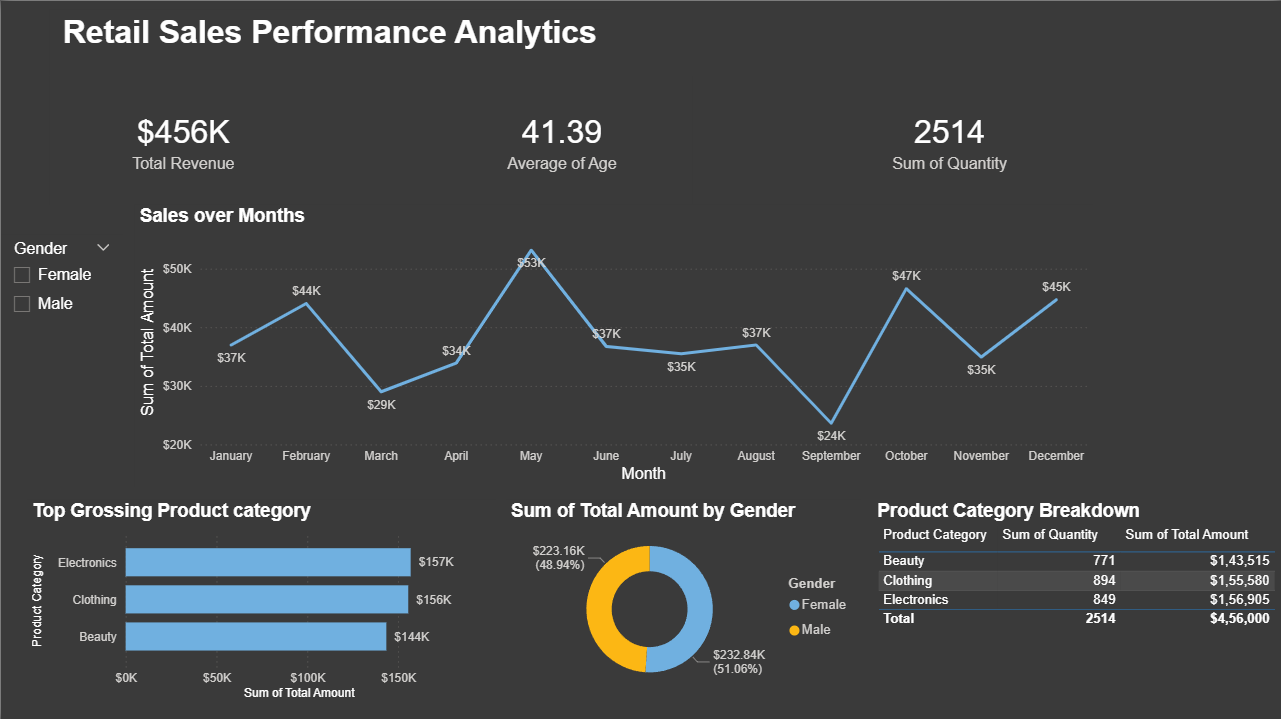

What the dashboard file says about the page in this screenshot:
{"tool":"powerbi","page":{"name":"Page 1","canvas":[1280,720],"ordinal":0},"visuals":[{"type":"card","fields":{"Values":["Sum(cleaned_retail_data_for_powerbi.Total Amount)"]},"box":[48.8,75,267.5,128.8],"z":0},{"type":"card","fields":{"Values":["Avg(cleaned_retail_data_for_powerbi.Age)"]},"box":[431.2,75,260,128.8],"z":1000},{"type":"clusteredBarChart","title":"Top Grossing Product category","fields":{"Category":["cleaned_retail_data_for_powerbi.Product Category"],"Y":["Sum(cleaned_retail_data_for_powerbi.Total Amount)"]},"box":[26.2,498.8,468.8,205],"z":2000},{"type":"lineChart","title":"Sales over Months","fields":{"Y":["Sum(cleaned_retail_data_for_powerbi.Total Amount)"],"Category":["cleaned_retail_data_for_powerbi.Date.Variation.Date Hierarchy.Month"]},"box":[133.8,203.8,958.8,282.5],"z":3000},{"type":"slicer","fields":{"Values":["cleaned_retail_data_for_powerbi.Gender"]},"box":[0,233.8,121.2,175],"z":4000},{"type":"card","fields":{"Values":["Sum(cleaned_retail_data_for_powerbi.Quantity)"]},"box":[805,75,287.5,128.8],"z":5000},{"type":"tableEx","title":"Product Category Breakdown","fields":{"Values":["cleaned_retail_data_for_powerbi.Product Category","Sum(cleaned_retail_data_for_powerbi.Quantity)","Sum(cleaned_retail_data_for_powerbi.Total Amount)"]},"box":[871.2,498.8,408.8,198.8],"z":6000},{"type":"donutChart","fields":{"Category":["cleaned_retail_data_for_powerbi.Gender"],"Y":["Sum(cleaned_retail_data_for_powerbi.Total Amount)"]},"box":[505.4,498.5,354.6,198.5],"z":7000},{"type":"textbox","box":[48.3,8.3,560,66.7],"z":8000}]}

Visuals, with their boxes in screenshot pixels (x1, y1, x2, y2), scaled from the page's 1280x720 canvas onto the 1281x719 screenshot:
card - Sum(cleaned_retail_data_for_powerbi.Total Amount): box(49, 75, 317, 204)
card - Avg(cleaned_retail_data_for_powerbi.Age): box(432, 75, 692, 204)
"Top Grossing Product category" clusteredBarChart: box(26, 498, 495, 703)
"Sales over Months" lineChart: box(134, 204, 1093, 486)
slicer - cleaned_retail_data_for_powerbi.Gender: box(0, 233, 121, 408)
card - Sum(cleaned_retail_data_for_powerbi.Quantity): box(806, 75, 1093, 204)
"Product Category Breakdown" tableEx: box(872, 498, 1280, 697)
donutChart - cleaned_retail_data_for_powerbi.Gender x Sum(cleaned_retail_data_for_powerbi.Total Amount): box(506, 498, 861, 696)
textbox: box(48, 8, 609, 75)
